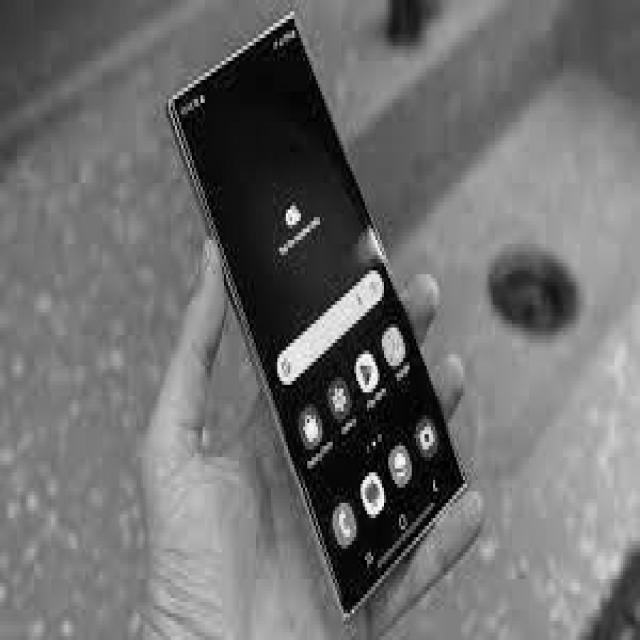No gun_phone: (170, 17, 467, 620)
